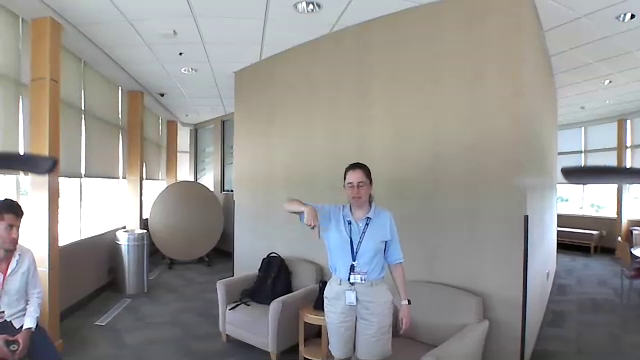down: (297, 202, 325, 245)
